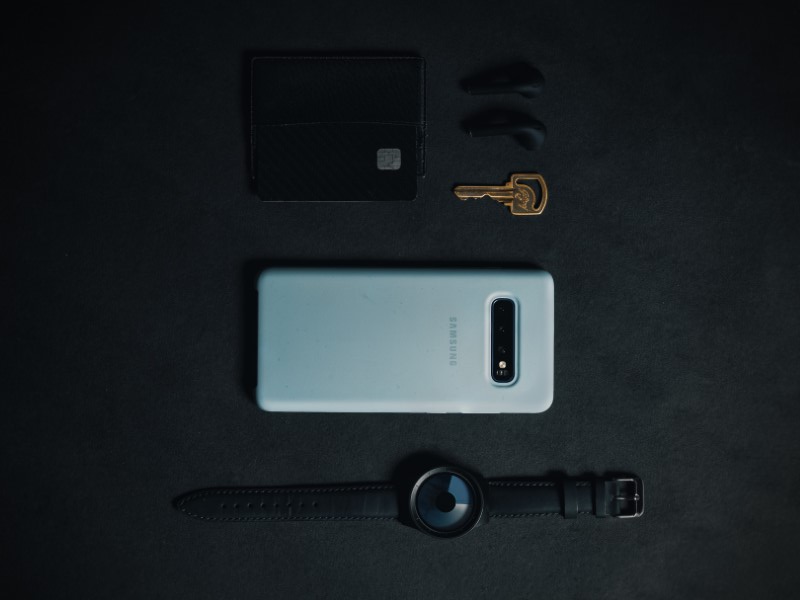key: (451, 166, 553, 226)
